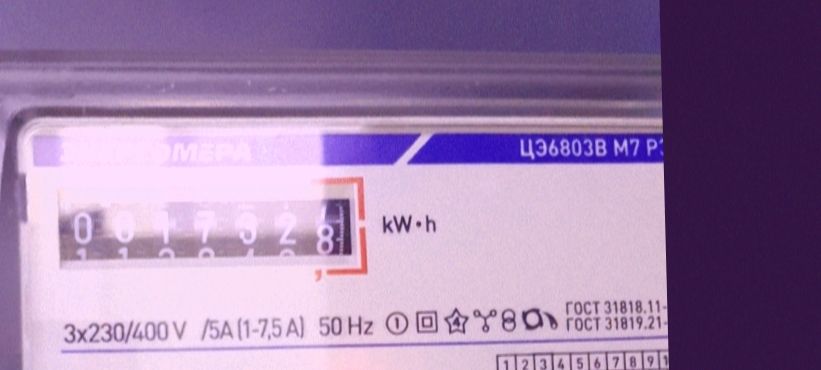0: (70, 207, 93, 244), (112, 208, 133, 242)
1: (155, 206, 171, 243)
2: (274, 209, 295, 245)
3: (234, 209, 257, 244)
7: (191, 206, 216, 244)
8: (312, 219, 332, 255)
screen: (45, 175, 370, 284)
